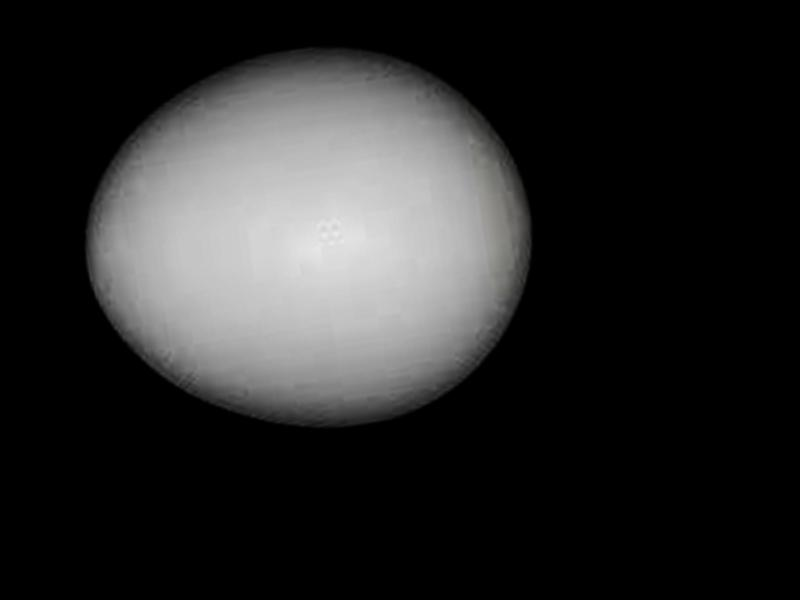Eggs: (62, 17, 556, 461)
